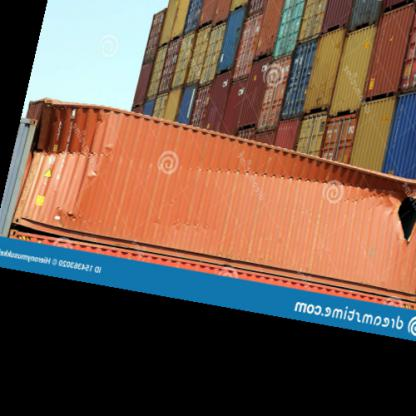Damage: (23, 87, 94, 163), (389, 193, 415, 245)
